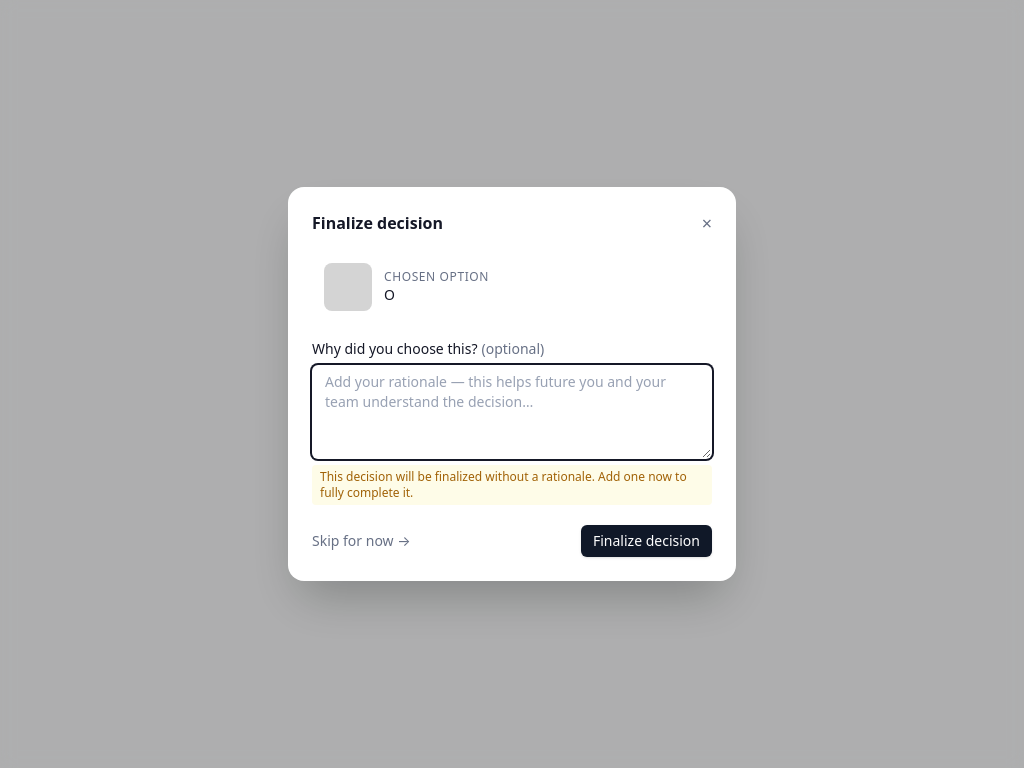
Test: FinalizeDecisionModal — missing rationale warning › hides the warning once a rationale is typed
The image size is (1024, 768).
Replace the text in the text box with placeholder "Add your rationale" with "Best contrast" at (512, 412), box [312,365,712,459]
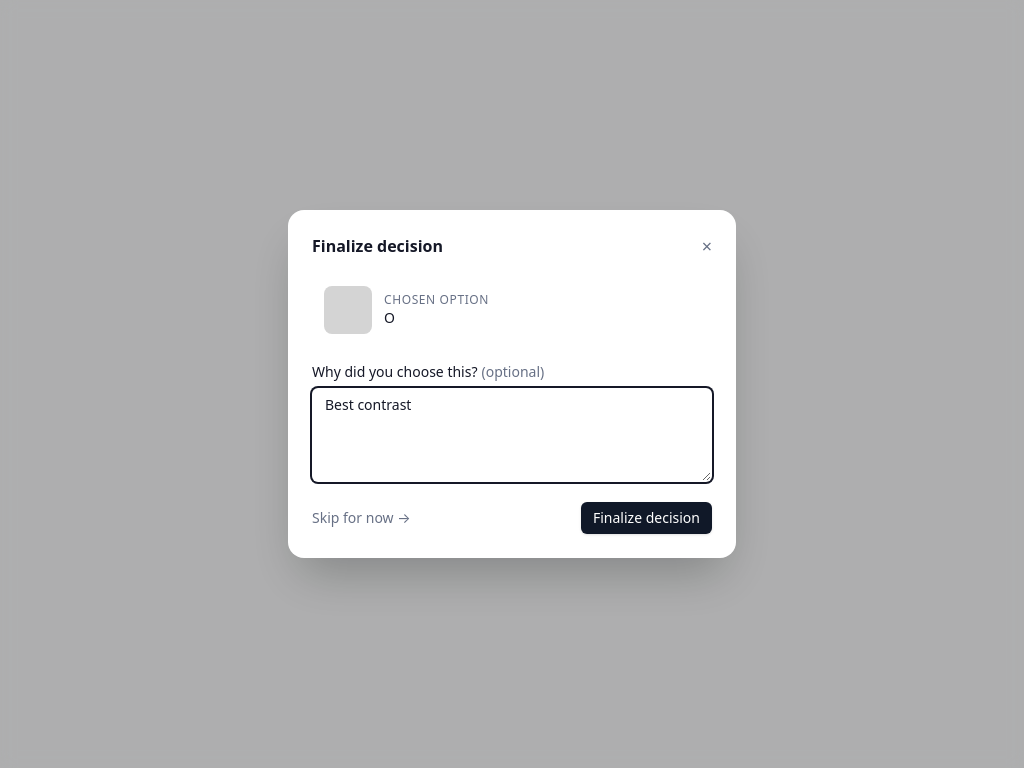
Expected: the text "will be finalized without a rationale" is gone
